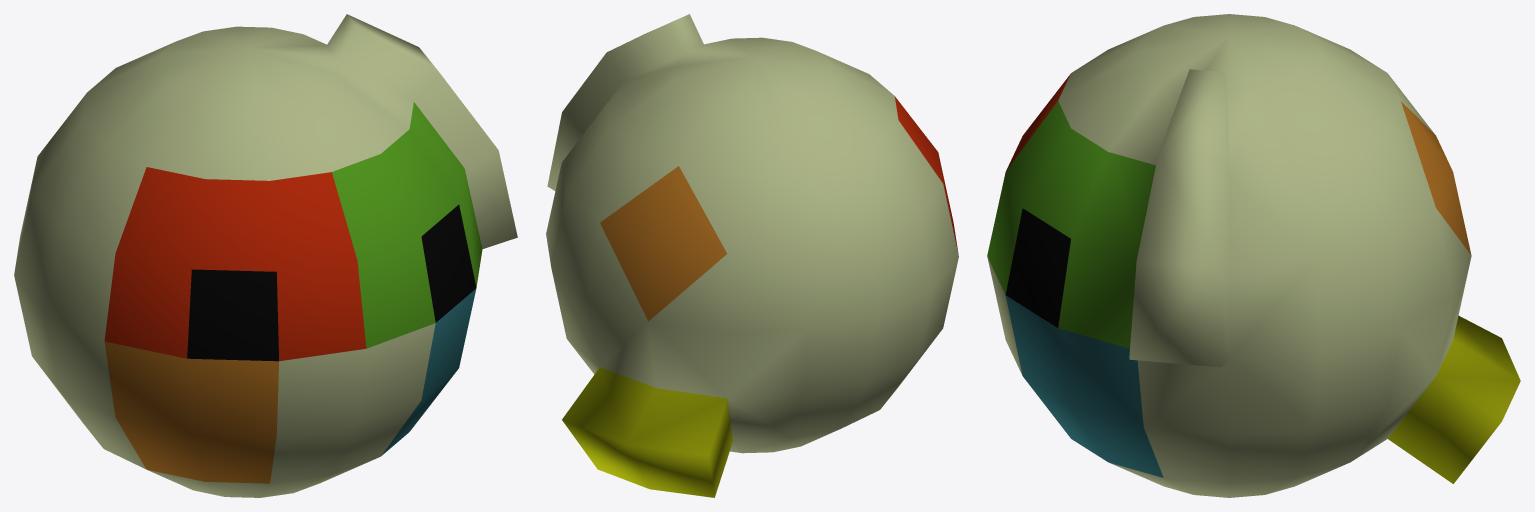
The model's file is w3d_nouv_vcol.dae.
3 renders of one model, left to right at view 1: azimuth 30°, elevation 25°; view 2: azimuth 150°, elevation 25°; view 3: azimuth 270°, elevation 25°, orthographic. The views are drawn at different scales.
Visible parts, largest first — view 1: sphere1-0; view 2: sphere1-0; view 3: sphere1-0.
Boxes of the visible parts, x1,y1,x2,y2 form: sphere1-0: [14, 14, 517, 497]; sphere1-0: [546, 14, 958, 497]; sphere1-0: [987, 14, 1520, 497].
Bounding box in the file's own units: 2.16 × 2.06 × 2.2.
